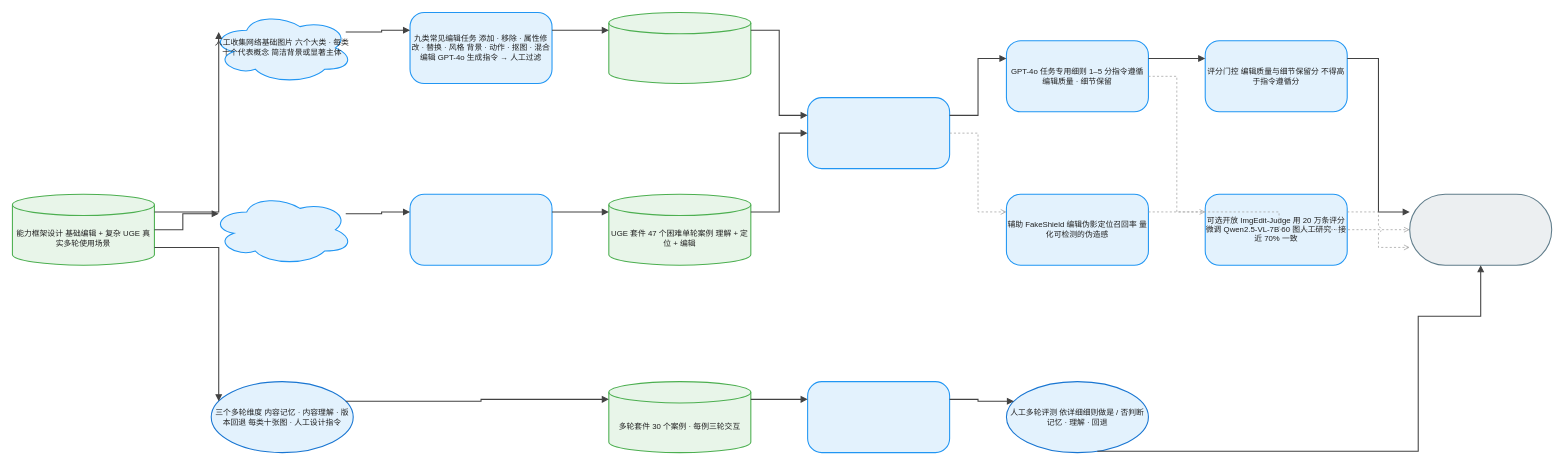
Image size: 1565x470. Some labels were removed from this diagram. Here are the shapes that lost their labels. From the top down, the centre of each, then its label:
(679,48): Basic-Edit 套件 734 个测试案例 短指令至复杂指令
(878,133): 生成单轮编辑结果 所有模型使用相同图片与指令 模型原生分辨率 · 重复三次
(281,229): 人工整理 47 张复杂图片 遮挡 · 同类多实例 伪装目标 · 不常见主体
(480,229): 人工设计 UGE 指令 空间推理 · 多对象协调 复合 / 细粒度 / 大范围编辑
(1480,229): 报告 ImgEdit-Bench 结果 Basic 分类均分 · UGE 均分 多轮成功率 + 辅助伪造分
(878,417): 顺序生成多轮编辑 保留完整轮次历史与版本
